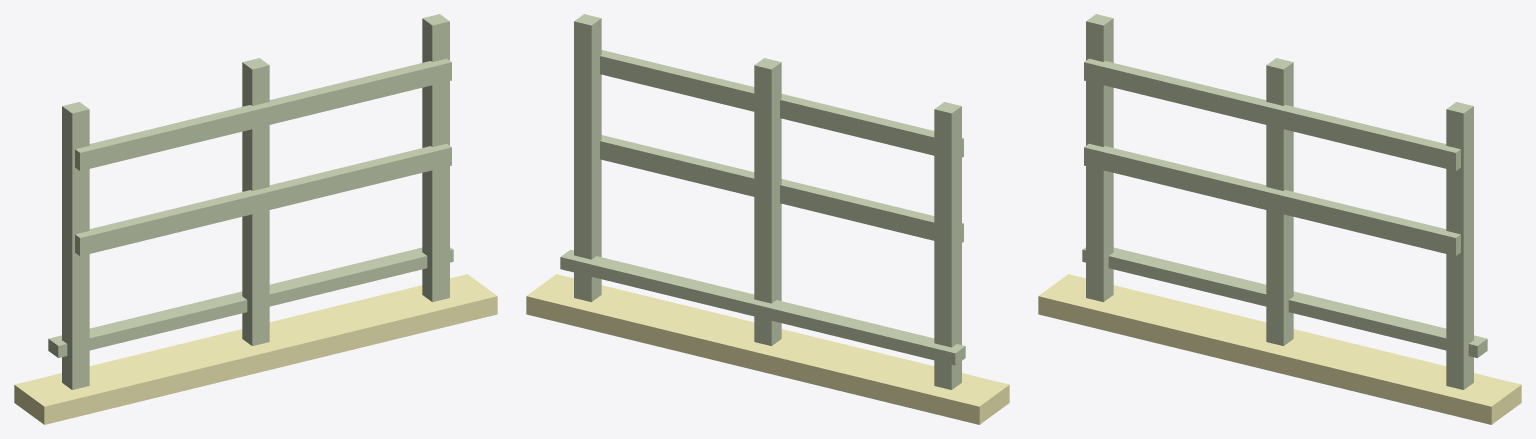
Rendered from furniture_bus_stop_platform_handrail.glb.
3 views of the same model, side by side, from view 1: azimuth 30°, elevation 25°; view 2: azimuth 150°, elevation 25°; view 3: azimuth 330°, elevation 25° (orthographic).
Parts seen in each view (by area): view 1: pad, rail_mid, rail_upper, toe_bar, post_left, post_right, post_mid; view 2: pad, toe_bar, rail_mid, rail_upper, post_left, post_mid, post_right; view 3: pad, rail_mid, rail_upper, toe_bar, post_right, post_left, post_mid.
Part boxes in pixels (x1,y1,x2,y2): pad: (14, 274, 497, 424); rail_mid: (75, 143, 451, 256); rail_upper: (75, 58, 451, 170); toe_bar: (48, 247, 453, 357); post_left: (62, 102, 89, 389); post_right: (422, 14, 449, 302); post_mid: (242, 58, 269, 345); pad: (526, 274, 1009, 424); toe_bar: (560, 249, 965, 365); rail_mid: (600, 135, 963, 242); rail_upper: (600, 50, 963, 157); post_left: (934, 102, 961, 389); post_mid: (754, 58, 781, 345); post_right: (574, 14, 601, 302); pad: (1038, 274, 1521, 424); rail_mid: (1084, 143, 1460, 256); rail_upper: (1084, 58, 1460, 170); toe_bar: (1082, 247, 1487, 357); post_right: (1446, 102, 1473, 389); post_left: (1086, 14, 1113, 302); post_mid: (1266, 58, 1293, 345).
Bounding box in the file's own units: 1.56 × 0.97 × 0.18.
